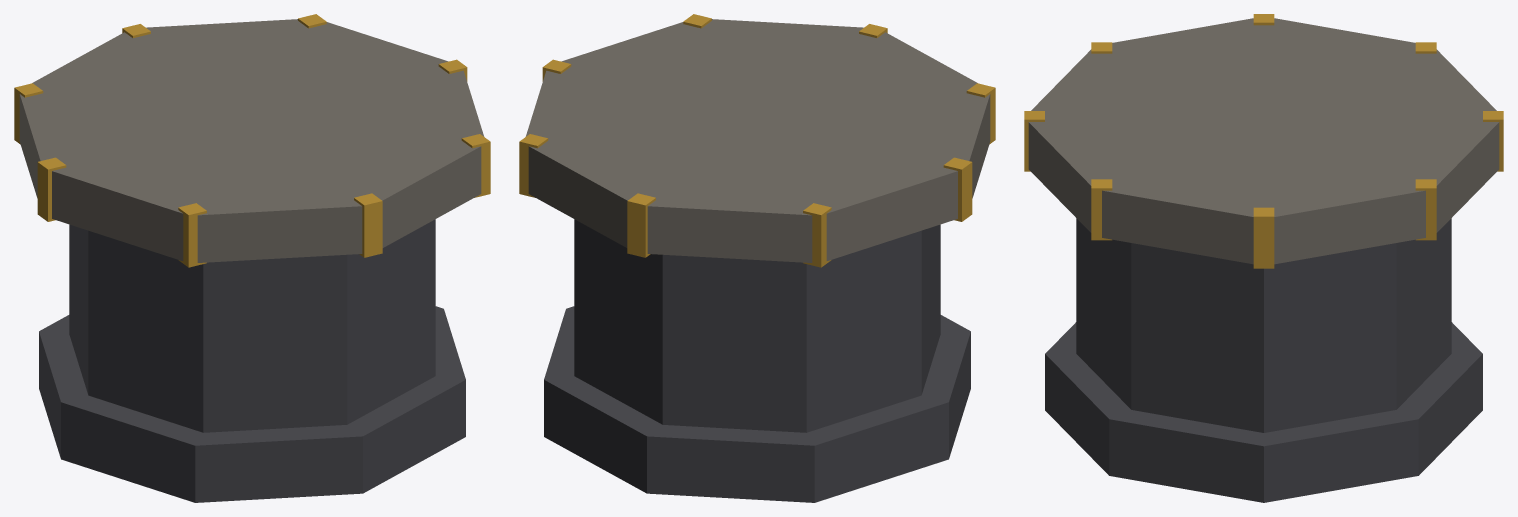
File: dungeon_altar_variant_b.obj
3 renders of one model, left to right at view 1: azimuth 30°, elevation 25°; view 2: azimuth 150°, elevation 25°; view 3: azimuth 270°, elevation 25°, orthographic.
Parts seen in each view (by area): view 1: dungeon_altar_variant_b; view 2: dungeon_altar_variant_b; view 3: dungeon_altar_variant_b.
Part boxes in pixels (x1,y1,x2,y2): dungeon_altar_variant_b: (14, 14, 490, 502); dungeon_altar_variant_b: (519, 14, 995, 502); dungeon_altar_variant_b: (1024, 14, 1503, 502).
Size of the model in its own units: 0.92 by 0.625 by 0.92.
